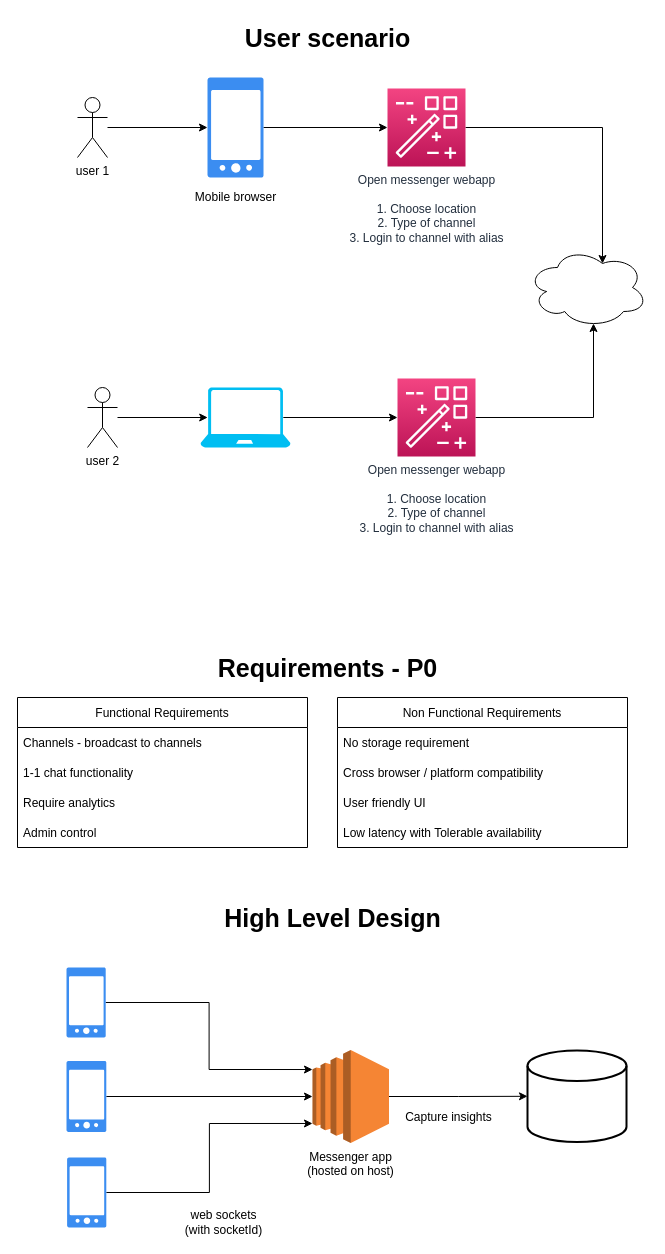
This 665x1254 diagram has some shape labels left out. The box of each missing label's shape, as (x1, y1, x2, y2) in pixels:
Analytics storage (FS / No SQL): (526, 1049, 627, 1142)
Messenger app: (526, 246, 648, 328)
Web browser: (200, 387, 290, 447)
